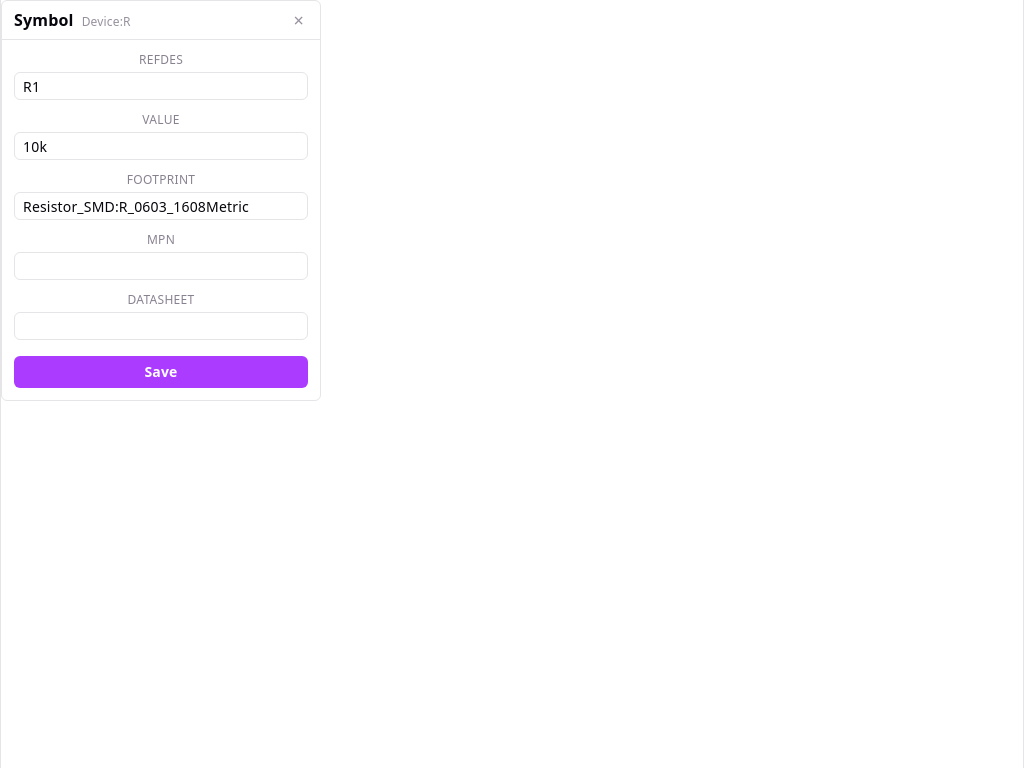
PropertyPanel › posts edited fields to /api/ui/ui_symbol_edit_props/<project_id>
The image size is (1024, 768).
Replace the text in the field with test id "property-value" with "4.7k" at (161, 146), box top-left (14, 132), bottom-right (308, 160)
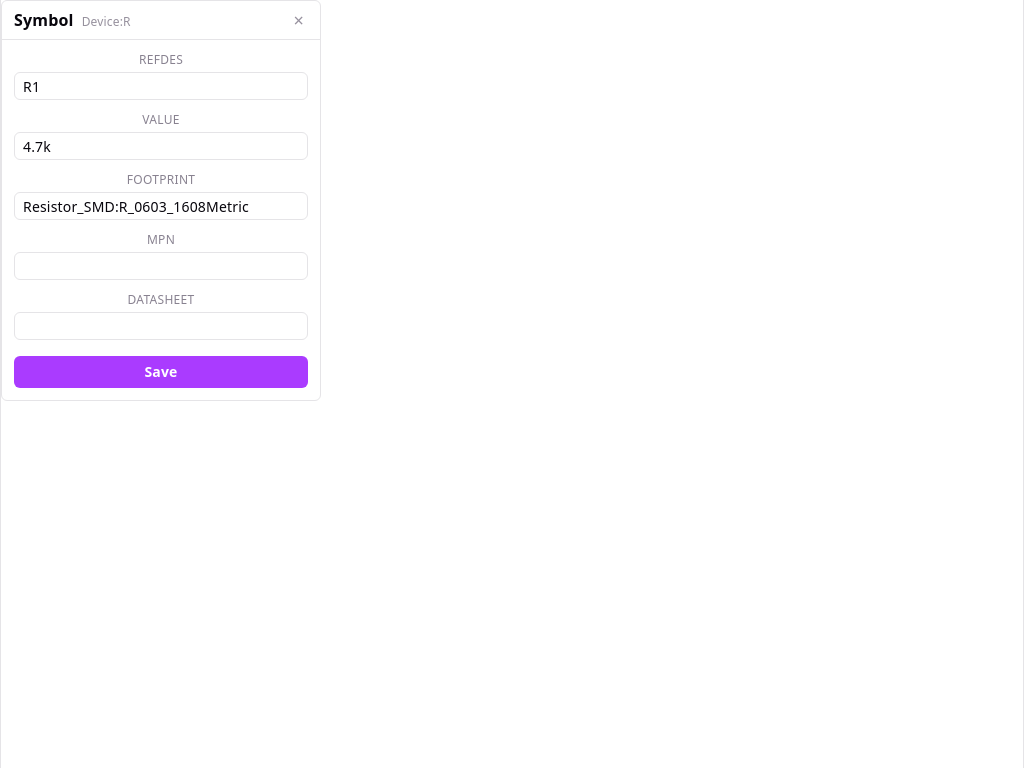
Click the button with test id "property-save" at (161, 372), box top-left (14, 356), bottom-right (308, 388)
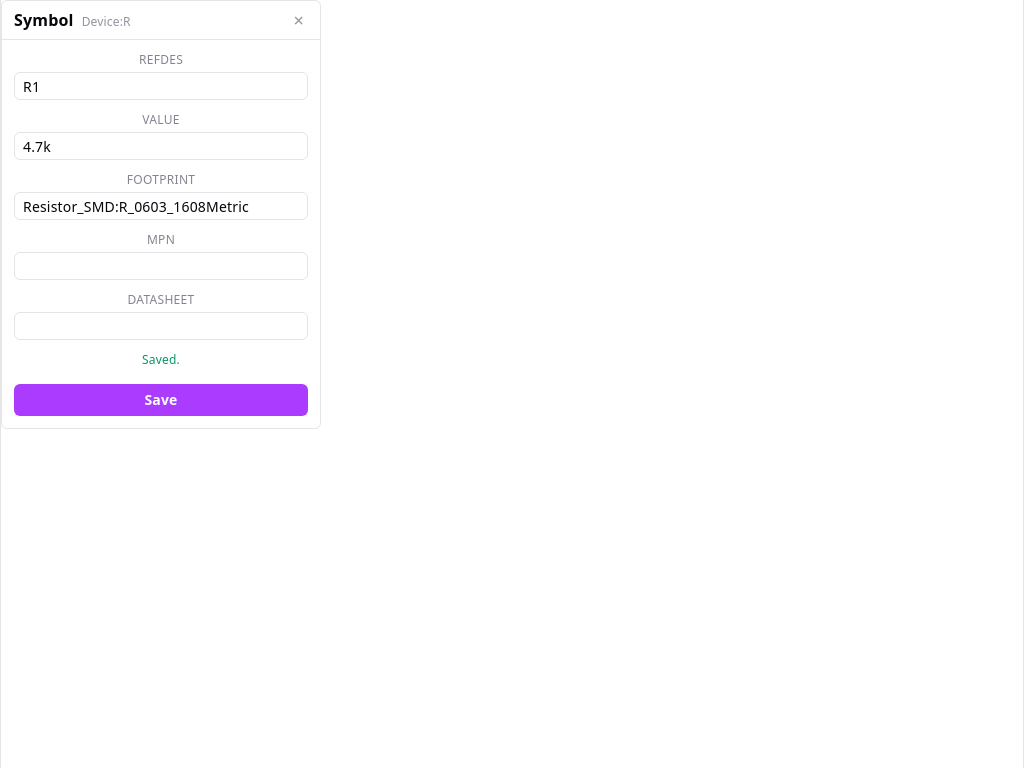
Expected: the text "Saved." is shown, top-left (142, 351), bottom-right (180, 368)
